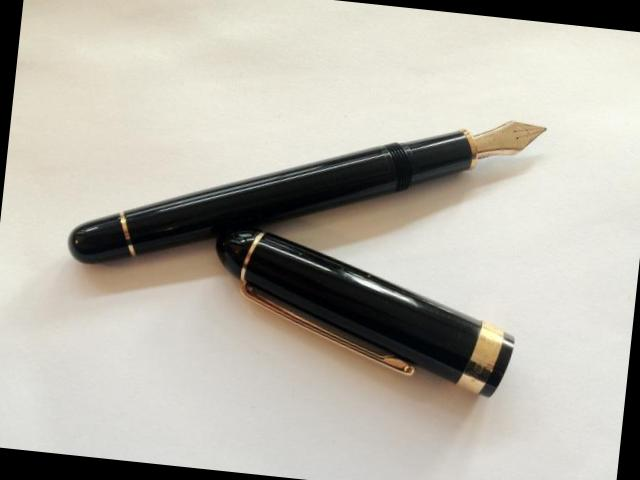PEN: (44, 63, 551, 403)
